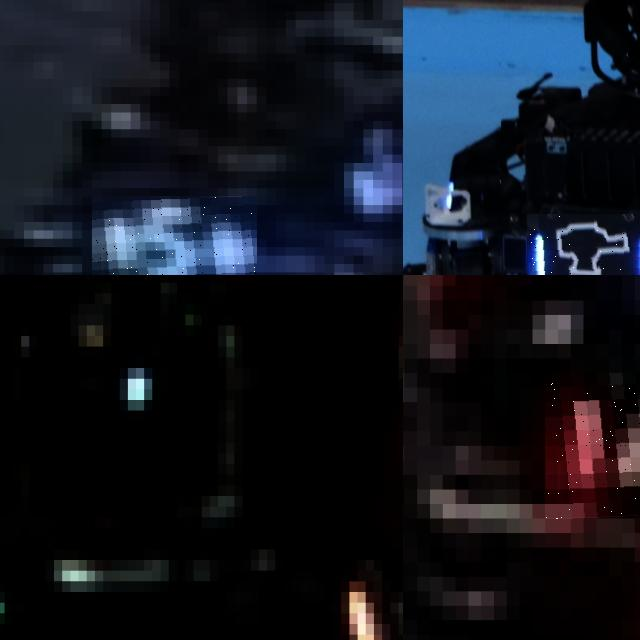B5: (92, 196, 257, 275)
Bs: (527, 213, 640, 275)
R4: (545, 373, 640, 518)
